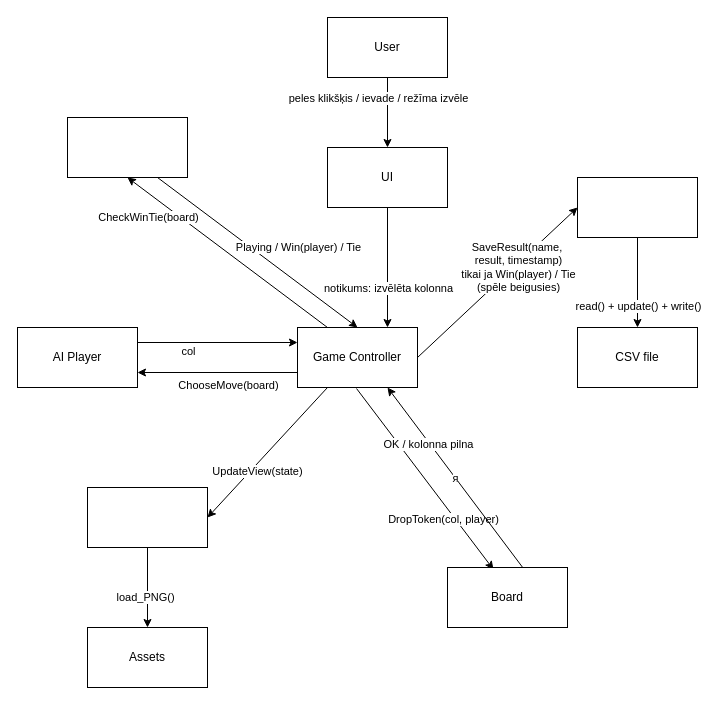
Some shapes in this 718 by 705 pixel diagram are drawn without their labels. Here are the shapes that lost their labels. From the top down, the box of each, then its label:
(66, 116, 188, 178): Rules
(576, 176, 698, 238): Stats Manager
(86, 486, 208, 548): Renderer (UI Drawing)
